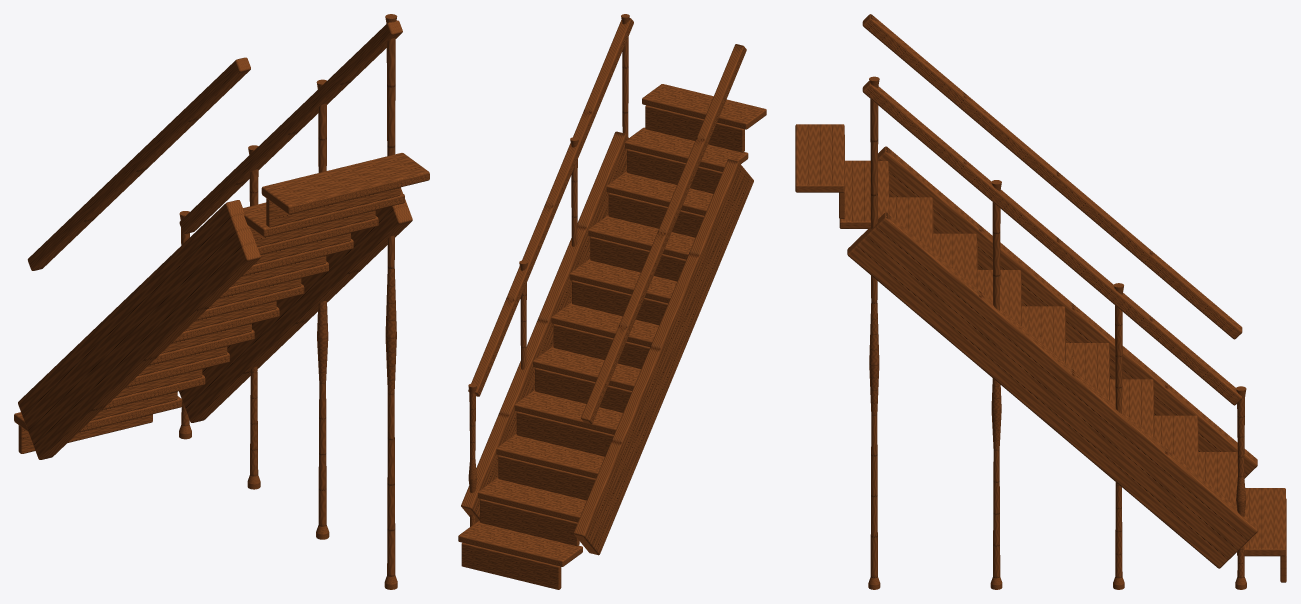
Rendered from witch-cottage-and-apothecary-stair-flight-39950d11__32440.glb.
The picture shows the model from 3 angles, left to right: view 1: azimuth 30°, elevation 25°; view 2: azimuth 150°, elevation 25°; view 3: azimuth 270°, elevation 25°; orthographic projection. The views are drawn at different scales.
Visible parts, largest first — view 1: stair-flight; view 2: stair-flight; view 3: stair-flight.
Boxes of the visible parts, <box> form: stair-flight: <box>14,14,429,589</box>; stair-flight: <box>458,14,766,589</box>; stair-flight: <box>795,14,1286,589</box>.
Bounding box in the file's own units: 1.01 × 3.31 × 2.89.
1 material, 1 textured.
